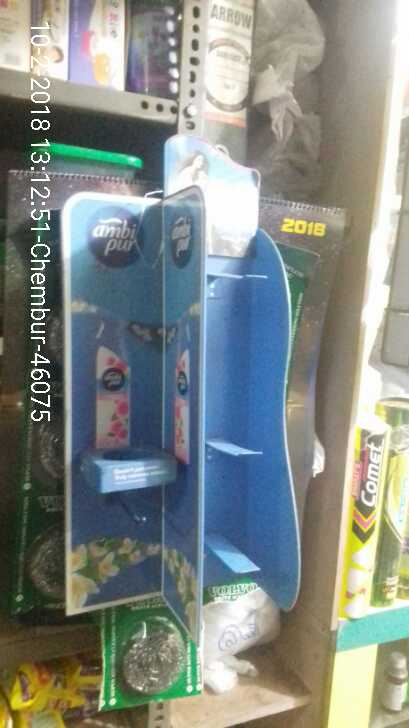reject: (140, 338, 199, 380)
